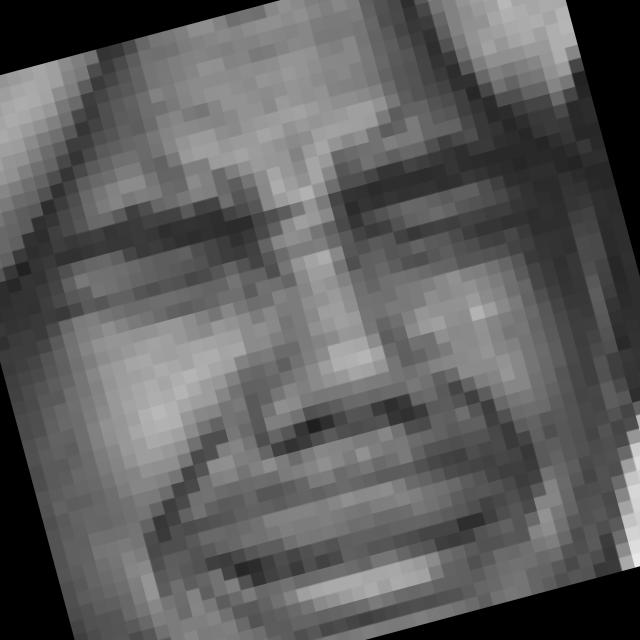sad: (2, 55, 640, 640)
